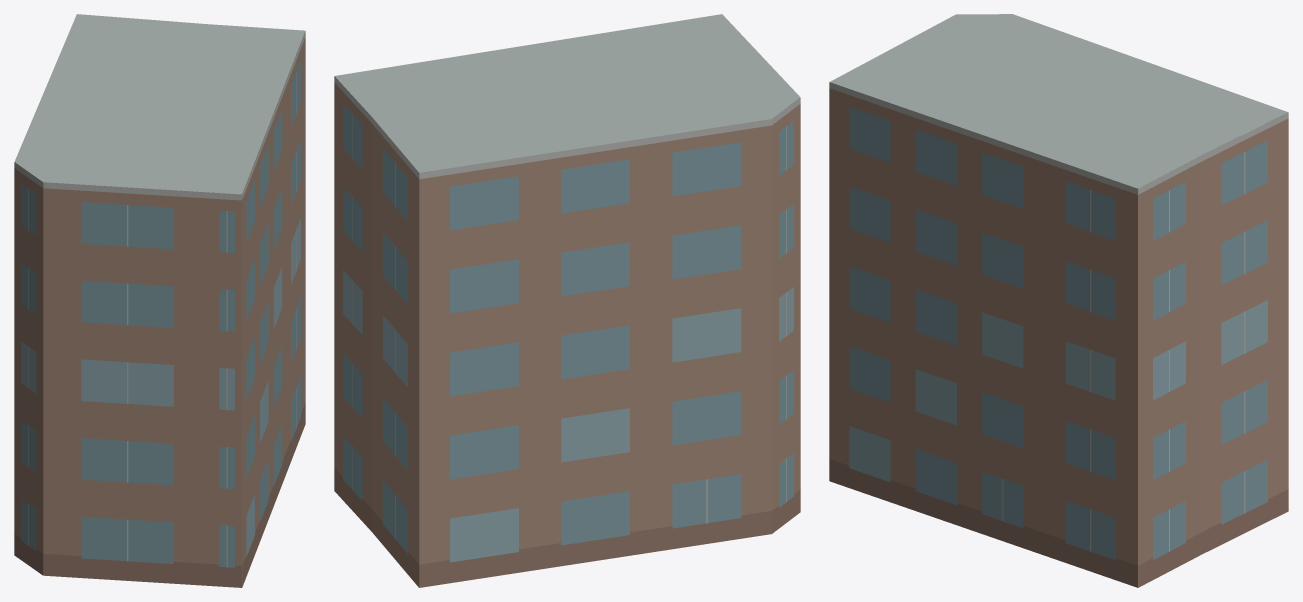
The model's file is survey-upis-32678829.glb.
3 views of the same model, side by side, from view 1: azimuth 30°, elevation 25°; view 2: azimuth 150°, elevation 25°; view 3: azimuth 270°, elevation 25° (orthographic). The views are drawn at different scales.
Parts seen in each view (by area): view 1: survey-upis-32678829.tmp; view 2: survey-upis-32678829.tmp; view 3: survey-upis-32678829.tmp.
Part boxes in pixels (x1,y1,x2,y2): survey-upis-32678829.tmp: (14,14,305,587); survey-upis-32678829.tmp: (334,14,800,587); survey-upis-32678829.tmp: (829,14,1288,587).
Size of the model in its own units: 14.94 by 15.9 by 16.58.
